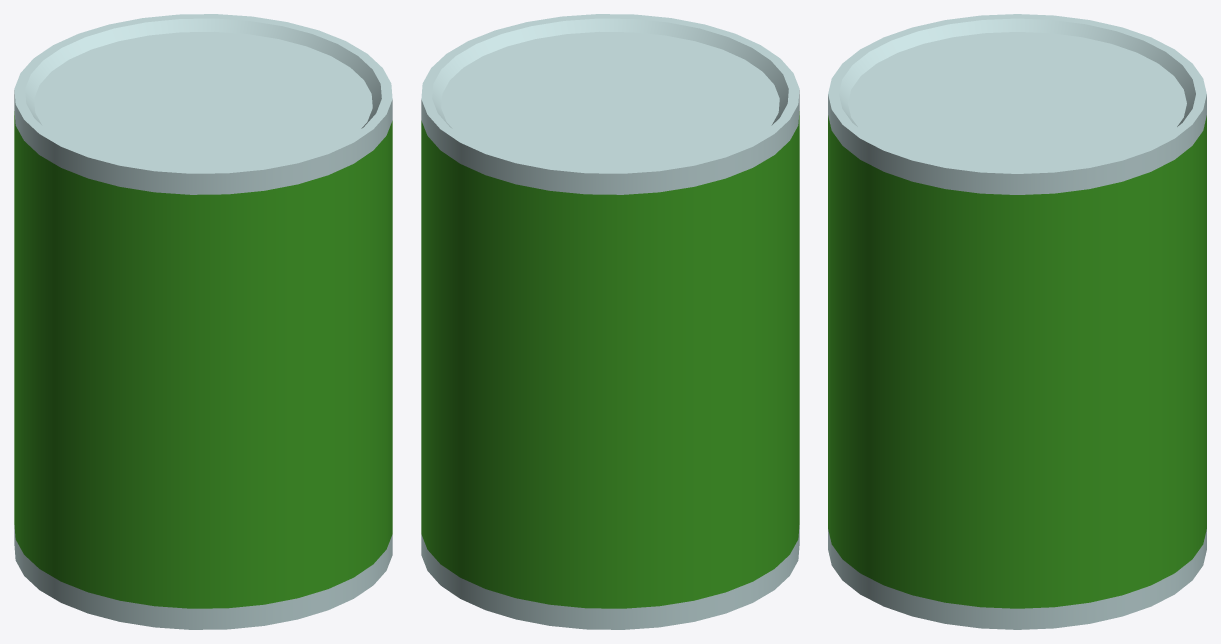
File: can_peas.glb
3 renders of one model, left to right at view 1: azimuth 30°, elevation 25°; view 2: azimuth 150°, elevation 25°; view 3: azimuth 270°, elevation 25°, orthographic.
Visible parts, largest first — view 1: can_peas; view 2: can_peas; view 3: can_peas.
Part boxes in pixels (<box>): can_peas: <box>14,14,392,629</box>; can_peas: <box>421,14,799,629</box>; can_peas: <box>828,14,1206,629</box>.
Bounding box in the file's own units: 0.096 × 0.1275 × 0.096.
